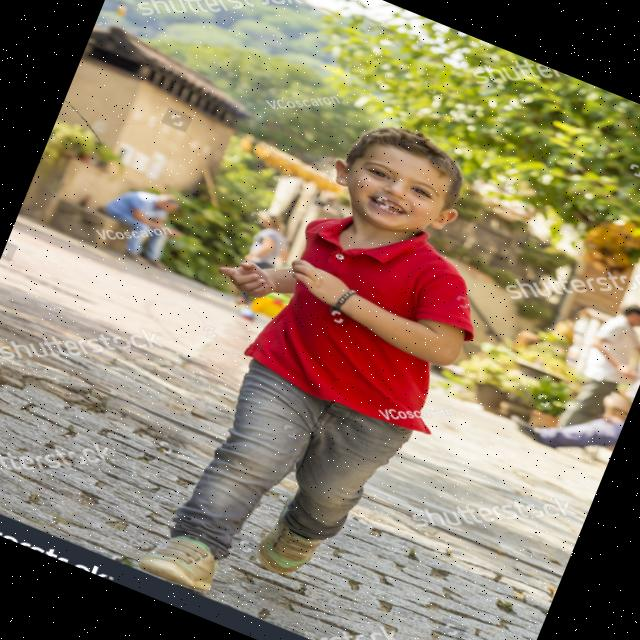Person: (98, 81, 537, 640)
